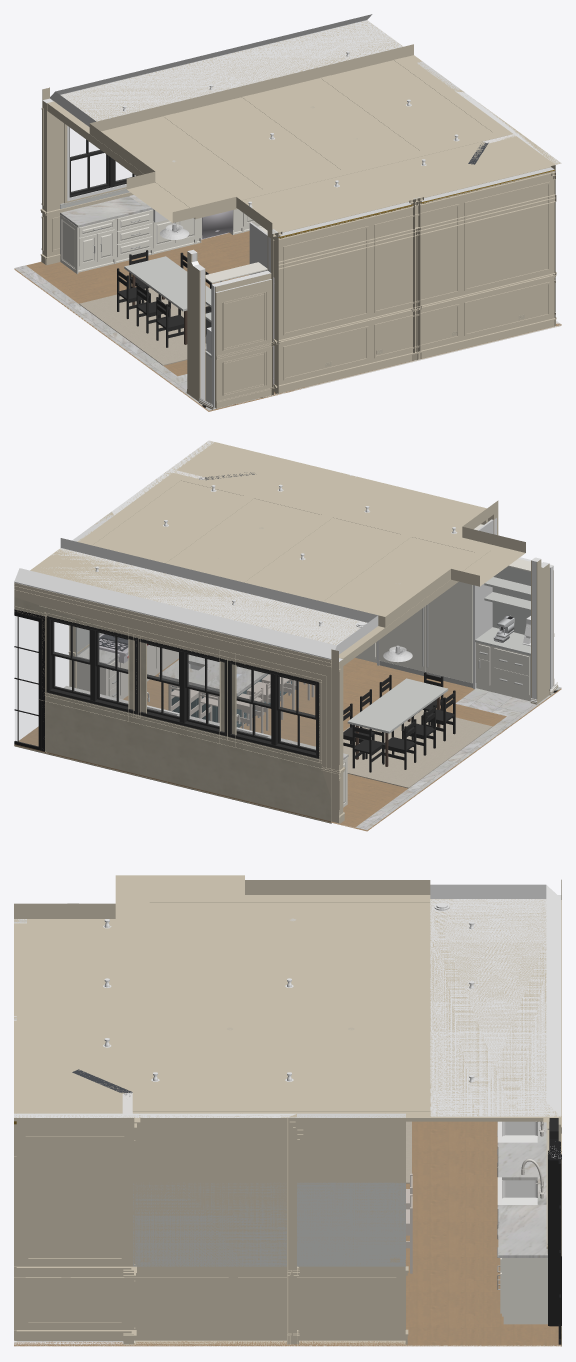
The model's file is kitchen-95730b2fee81.glb.
The picture shows the model from 3 angles, top to bottom: view 1: azimuth 30°, elevation 25°; view 2: azimuth 150°, elevation 25°; view 3: azimuth 270°, elevation 25°; orthographic projection. The views are drawn at different scales.
Parts seen in each view (by area): view 1: kitchen-2575515a05775d9e, kitchen-19647d6da46c2b80, kitchen-9a0e9ee9b2a451d7, kitchen-49bdd6945a2d0056, kitchen-00be813e6aece0ee, kitchen-3b0077416469e01b, kitchen-7dfe2ffe68edc988, kitchen-75351331e76db762, kitchen-09be6e6cfc36f29e, kitchen-bfb9fa537cd11d1d, kitchen-7b4bbba8a9d390c7, kitchen-5f1778ec544bdf42 (+29 smaller); view 2: kitchen-2575515a05775d9e, kitchen-bfb9fa537cd11d1d, kitchen-49bdd6945a2d0056, kitchen-3b0077416469e01b, kitchen-9a0e9ee9b2a451d7, kitchen-09be6e6cfc36f29e, kitchen-7dfe2ffe68edc988, kitchen-9b21a9be80c3a49b, kitchen-465517ab3404164a, kitchen-75351331e76db762, kitchen-576146411195f884, kitchen-32fc8eea516b7cb3 (+29 smaller); view 3: kitchen-2575515a05775d9e, kitchen-5b6bbac285e58726, kitchen-9a0e9ee9b2a451d7, kitchen-3b0077416469e01b, kitchen-49bdd6945a2d0056, kitchen-4554d8252f00ac44, kitchen-6a1144f4e43410bb, kitchen-99336d62df756830, kitchen-515b4f710c0d82a8, kitchen-4b4793188d7158f3, kitchen-47c334bbf0372127, kitchen-e54d813e60c9e7c4 (+21 smaller).
Part boxes in pixels (x1,y1,x2,y2): kitchen-2575515a05775d9e: (89, 44, 560, 233); kitchen-19647d6da46c2b80: (278, 167, 554, 385); kitchen-9a0e9ee9b2a451d7: (50, 20, 403, 126); kitchen-49bdd6945a2d0056: (50, 14, 402, 126); kitchen-00be813e6aece0ee: (215, 279, 271, 408); kitchen-3b0077416469e01b: (14, 231, 561, 411); kitchen-7dfe2ffe68edc988: (117, 250, 221, 347); kitchen-75351331e76db762: (79, 287, 208, 365); kitchen-09be6e6cfc36f29e: (67, 126, 135, 201); kitchen-bfb9fa537cd11d1d: (42, 98, 63, 256); kitchen-7b4bbba8a9d390c7: (277, 318, 556, 393); kitchen-5f1778ec544bdf42: (277, 194, 556, 269); kitchen-2575515a05775d9e: (77, 441, 525, 627); kitchen-bfb9fa537cd11d1d: (14, 583, 343, 821); kitchen-49bdd6945a2d0056: (14, 538, 378, 659); kitchen-3b0077416469e01b: (14, 658, 561, 831); kitchen-9a0e9ee9b2a451d7: (14, 548, 378, 659); kitchen-09be6e6cfc36f29e: (228, 660, 319, 758); kitchen-7dfe2ffe68edc988: (343, 672, 455, 772); kitchen-9b21a9be80c3a49b: (46, 616, 137, 714); kitchen-465517ab3404164a: (136, 637, 227, 736); kitchen-75351331e76db762: (343, 709, 492, 788); kitchen-576146411195f884: (14, 609, 44, 751); kitchen-32fc8eea516b7cb3: (426, 581, 472, 683); kitchen-2575515a05775d9e: (14, 875, 430, 1117); kitchen-5b6bbac285e58726: (134, 1113, 296, 1344); kitchen-9a0e9ee9b2a451d7: (430, 899, 560, 1117); kitchen-3b0077416469e01b: (14, 1121, 561, 1346); kitchen-49bdd6945a2d0056: (430, 884, 561, 1116); kitchen-4554d8252f00ac44: (133, 1182, 405, 1270); kitchen-6a1144f4e43410bb: (14, 1113, 134, 1344); kitchen-99336d62df756830: (297, 1113, 405, 1344); kitchen-515b4f710c0d82a8: (27, 1121, 122, 1329); kitchen-4b4793188d7158f3: (498, 1121, 547, 1257); kitchen-47c334bbf0372127: (132, 895, 149, 1111); kitchen-e54d813e60c9e7c4: (14, 1124, 405, 1133).
Size of the model in its own units: 6.87 by 3.24 by 6.56.
53 materials, 10 textured.
